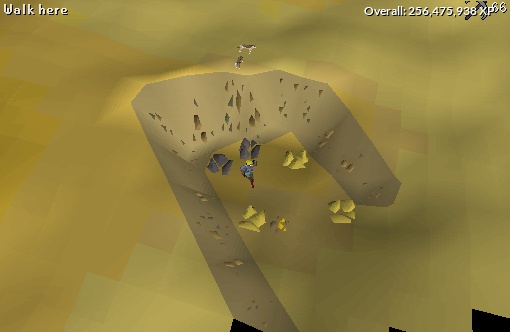depleted: (206, 151, 234, 177), (238, 137, 264, 161)
gold: (323, 193, 361, 232), (237, 201, 272, 236), (281, 145, 313, 172)
